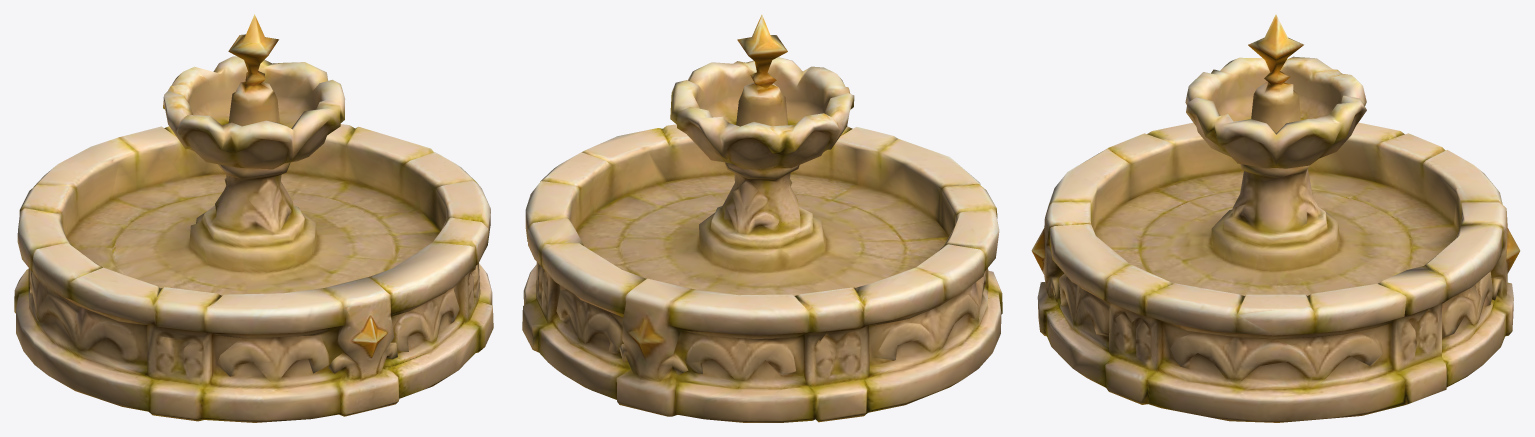
File: stone-fountain-CsKtKDOG.glb
The picture shows the model from 3 angles, left to right: view 1: azimuth 30°, elevation 25°; view 2: azimuth 150°, elevation 25°; view 3: azimuth 270°, elevation 25°; orthographic projection.
Parts seen in each view (by area): view 1: tripo_node_04bdf430-441c-4f92-8473-bdb1b99b88ae; view 2: tripo_node_04bdf430-441c-4f92-8473-bdb1b99b88ae; view 3: tripo_node_04bdf430-441c-4f92-8473-bdb1b99b88ae.
Boxes of the visible parts, <box> form: tripo_node_04bdf430-441c-4f92-8473-bdb1b99b88ae: <box>14,14,493,422</box>; tripo_node_04bdf430-441c-4f92-8473-bdb1b99b88ae: <box>522,14,1002,422</box>; tripo_node_04bdf430-441c-4f92-8473-bdb1b99b88ae: <box>1031,14,1520,422</box>.
Size of the model in its own units: 0.9763 by 0.688 by 0.9837.
1 material, 1 textured.
